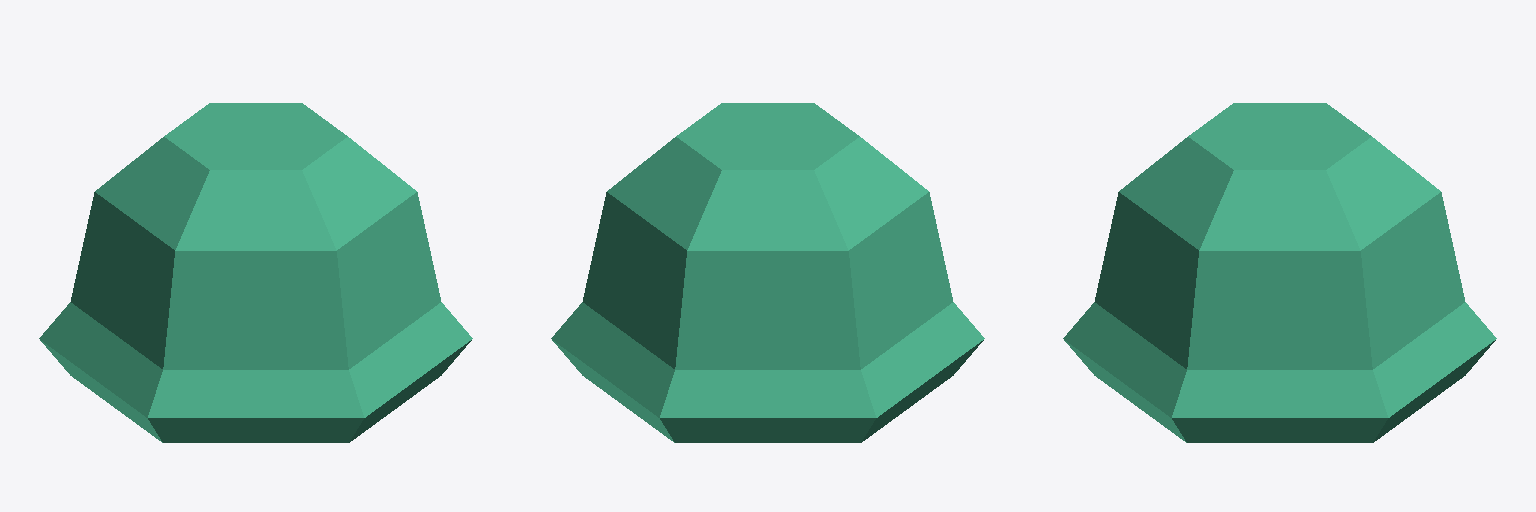
The model's file is iceCreamScoopMint.obj.
The picture shows the model from 3 angles: view 1: azimuth 30°, elevation 25°; view 2: azimuth 150°, elevation 25°; view 3: azimuth 270°, elevation 25°; orthographic projection.
Visible parts, largest first — view 1: iceCreamScoopMint; view 2: iceCreamScoopMint; view 3: iceCreamScoopMint.
Boxes of the visible parts, box(x1,y1,x2,y2) form: iceCreamScoopMint: box(39, 103, 472, 442); iceCreamScoopMint: box(551, 103, 984, 442); iceCreamScoopMint: box(1063, 103, 1496, 442).
Bounding box in the file's own units: 0.2352 × 0.165 × 0.2716.